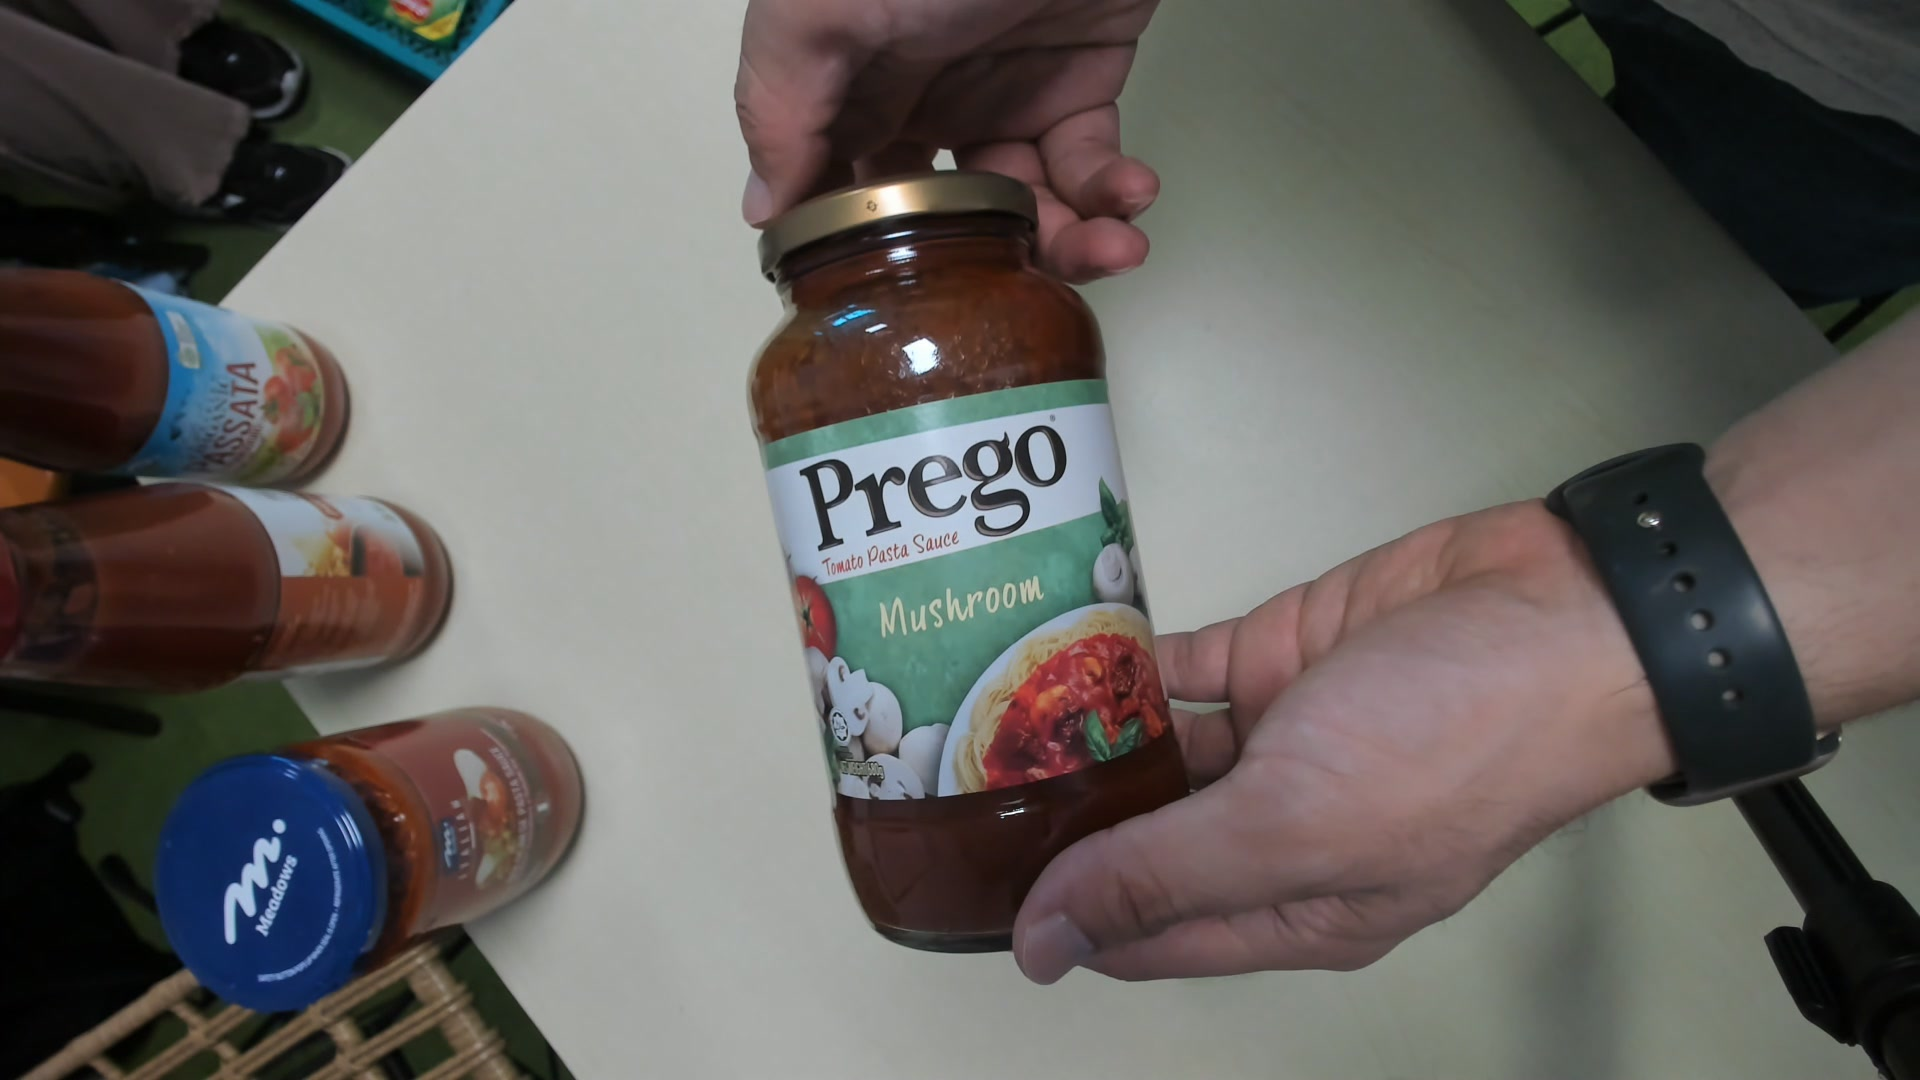PastaSauce_600-699g_Halal_NonHealthy: (750, 178, 1197, 964)
